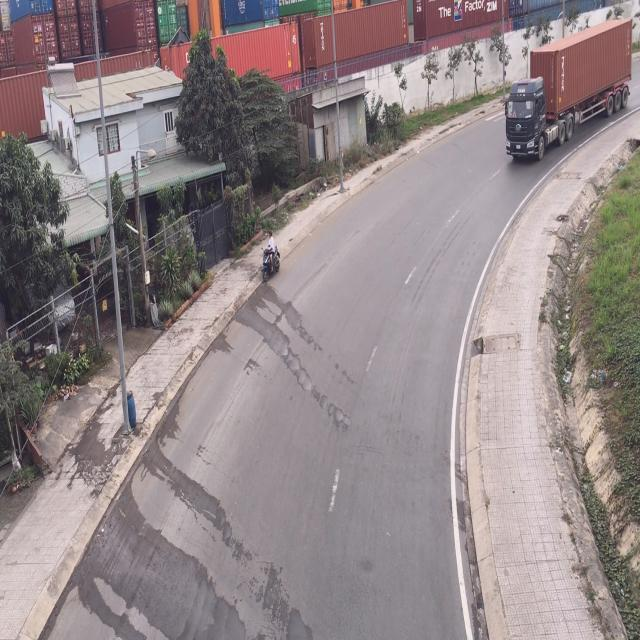motorbike: (264, 233, 282, 284)
truck: (502, 12, 634, 162)
